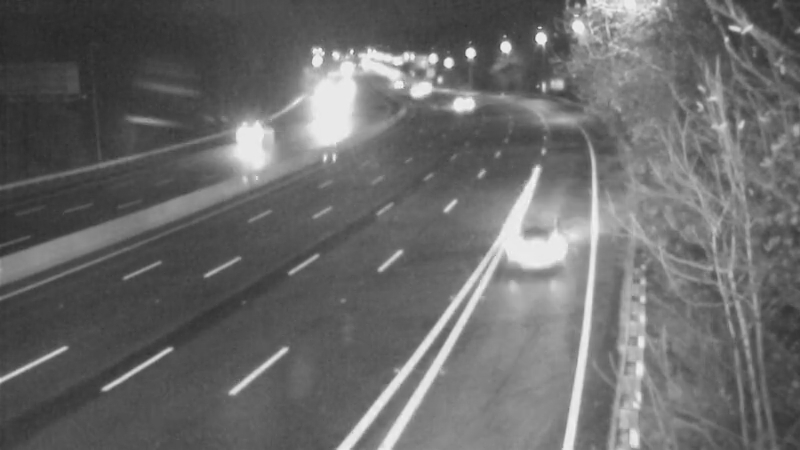vehicle: (492, 212, 572, 292), (432, 80, 482, 130), (225, 122, 275, 172), (298, 106, 348, 156)
